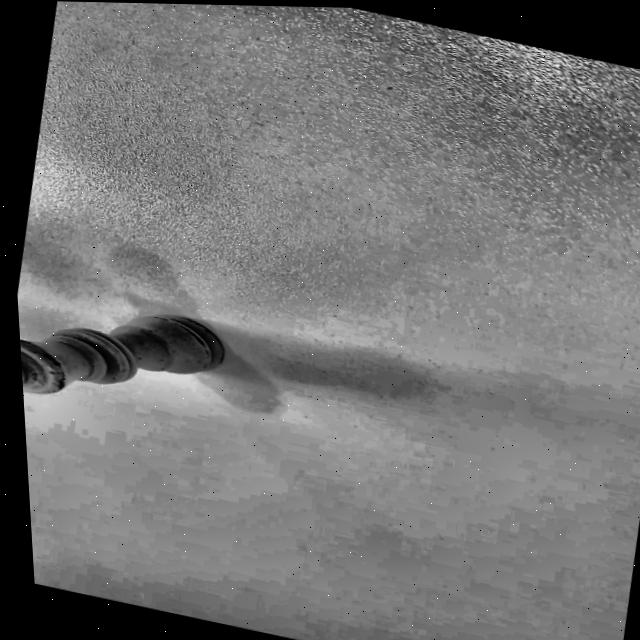white-queen: (16, 267, 271, 462)
